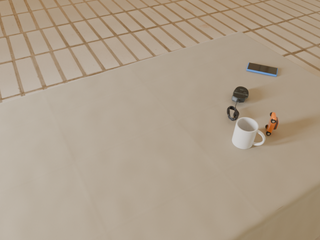cup: (232, 117, 265, 149)
mouse: (232, 87, 249, 103)
phone: (247, 63, 278, 76)
toy_car: (266, 112, 279, 135)
